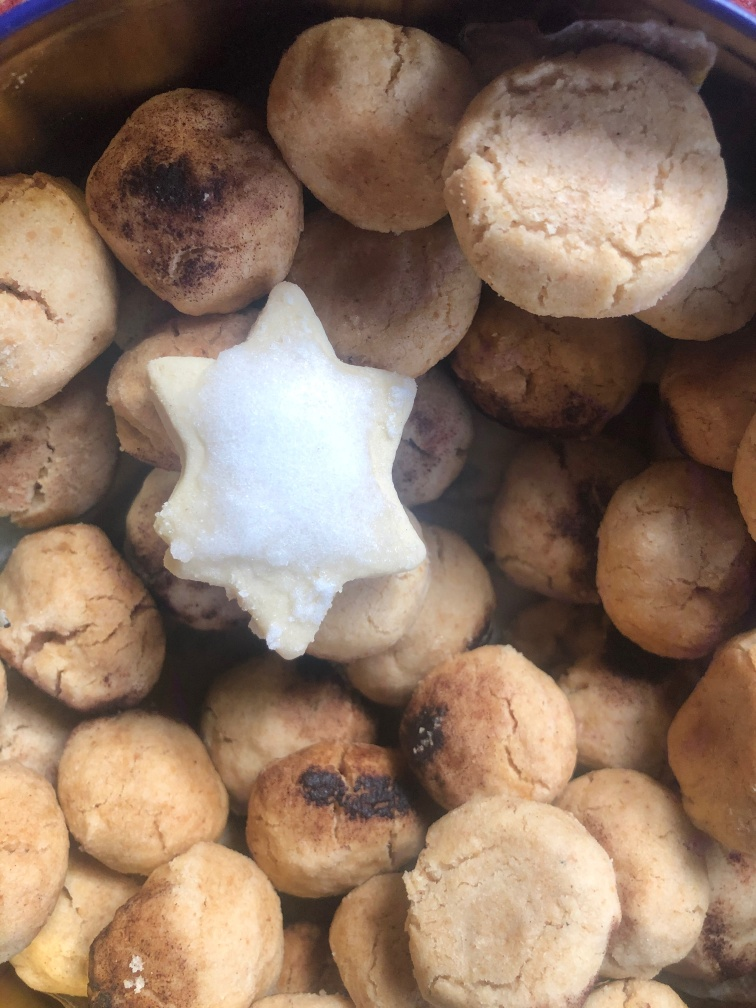snowball: (441, 41, 735, 322), (80, 78, 302, 310), (397, 792, 621, 1008), (267, 15, 480, 238), (91, 845, 278, 1008), (5, 527, 167, 709), (596, 463, 745, 656), (53, 710, 223, 867), (246, 740, 418, 895), (5, 172, 117, 407), (411, 647, 578, 795)
star: (140, 279, 426, 671)
